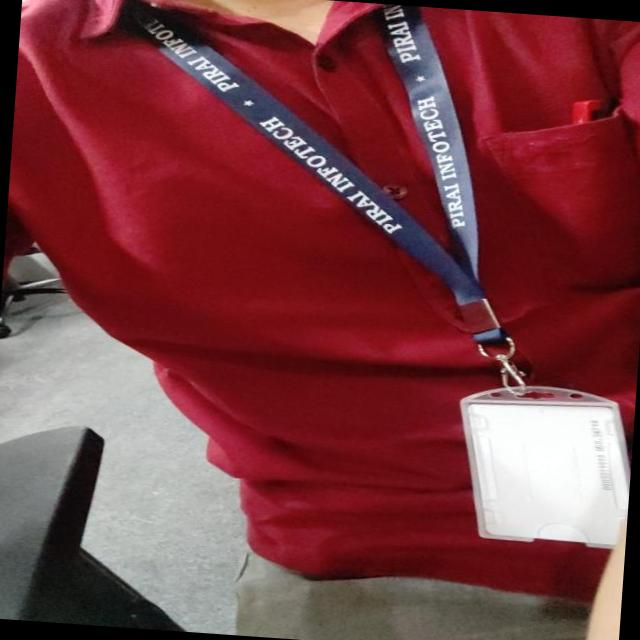id_card: (85, 0, 640, 557)
